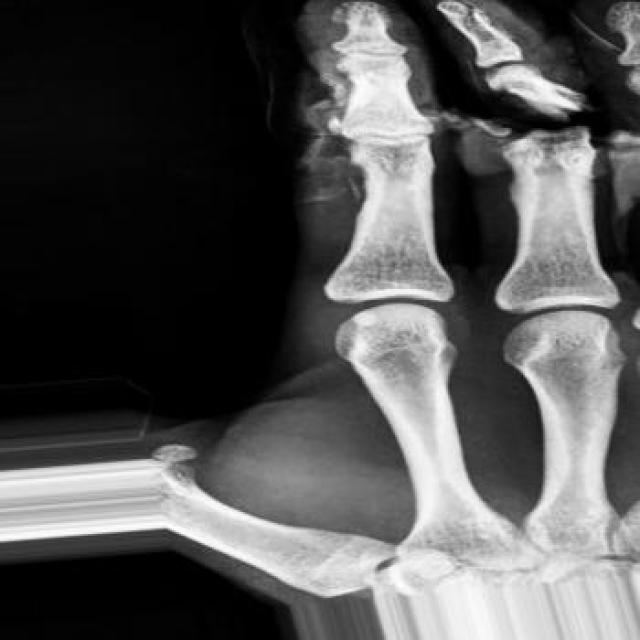Fracture: (480, 76, 606, 154)
